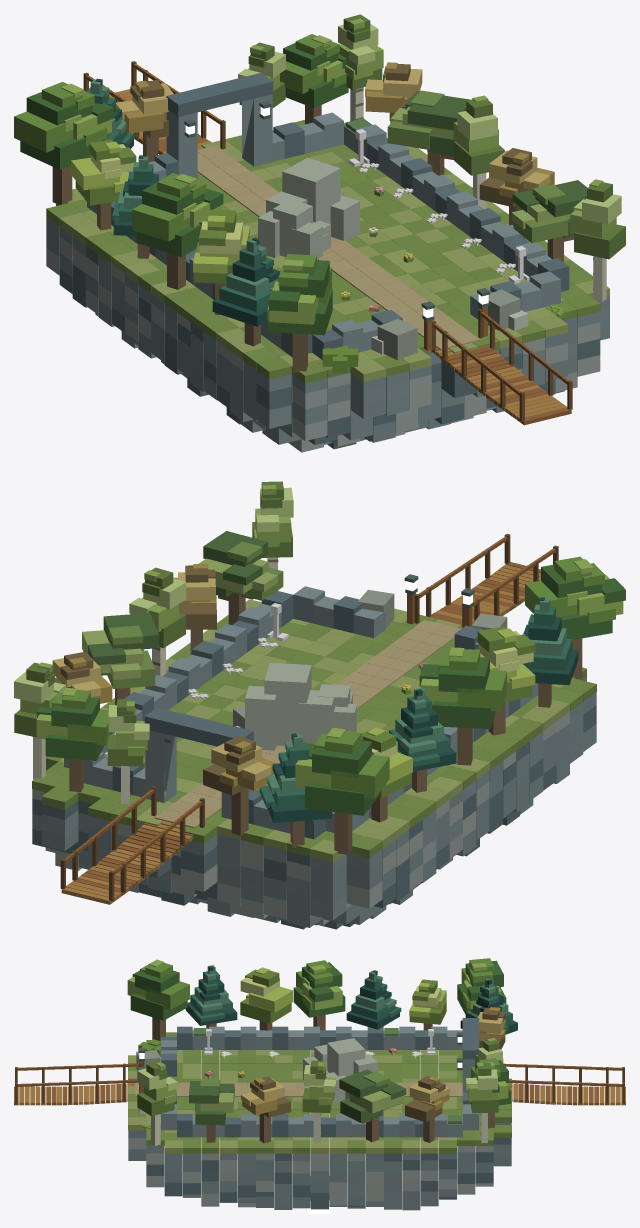
Rendered from room_rock_purified.glb.
3 views of the same model, one above another, from view 1: azimuth 30°, elevation 25°; view 2: azimuth 150°, elevation 25°; view 3: azimuth 270°, elevation 25° (orthographic). The views are drawn at different scales.
Visible parts, largest first — view 1: room_rock_blocks, tree0_(0, 0).003, tree0_(0, 0).002, tree0_(0, 0).001, rock_outcrop_(0, 0).001, tree0_(0, 0).004, tree3_(0, 0).002, tree2_(0, 0).001, tree1_(0, 0).001, tree3_(0, 0).001, tree4_(0, 0).002, tree1_(0, 0).002 (+12 smaller); view 2: room_rock_blocks, tree0_(0, 0).003, tree0_(0, 0).002, tree0_(0, 0).001, rock_outcrop_(0, 0).001, tree0_(0, 0).004, tree3_(0, 0).002, tree3_(0, 0).001, tree5_(0, 0).003, tree2_(0, 0).002, tree2_(0, 0).001, tree2_(0, 0).003 (+10 smaller); view 3: room_rock_blocks, tree0_(0, 0).001, tree3_(0, 0).002, tree0_(0, 0).002, tree4_(0, 0).001, tree1_(0, 0).001, tree3_(0, 0).001, tree2_(0, 0).001, tree2_(0, 0).002, tree5_(0, 0).001, tree5_(0, 0).002, rock_outcrop_(0, 0).001 (+8 smaller).
Boxes of the visible parts, box(x1,y1,x2,y2) form: room_rock_blocks: box(46, 61, 609, 452); tree0_(0, 0).003: box(14, 82, 114, 205); tree0_(0, 0).002: box(132, 173, 223, 289); tree0_(0, 0).001: box(267, 254, 332, 373); rock_outcrop_(0, 0).001: box(266, 157, 359, 247); tree0_(0, 0).004: box(280, 34, 348, 124); tree3_(0, 0).002: box(387, 90, 471, 175); tree2_(0, 0).001: box(212, 237, 280, 346); tree1_(0, 0).001: box(570, 179, 625, 302); tree3_(0, 0).001: box(511, 180, 587, 262); tree4_(0, 0).002: box(71, 139, 136, 230); tree1_(0, 0).002: box(453, 95, 504, 208); room_rock_blocks: box(32, 534, 596, 929); tree0_(0, 0).003: box(295, 727, 389, 854); tree0_(0, 0).002: box(419, 647, 506, 765); tree0_(0, 0).001: box(525, 556, 625, 678); rock_outcrop_(0, 0).001: box(245, 663, 333, 750); tree0_(0, 0).004: box(36, 687, 112, 791); tree3_(0, 0).002: box(82, 613, 159, 705); tree3_(0, 0).001: box(198, 531, 283, 624); tree5_(0, 0).003: box(203, 735, 277, 835); tree2_(0, 0).002: box(389, 687, 456, 792); tree2_(0, 0).001: box(522, 597, 578, 707); tree2_(0, 0).003: box(259, 733, 332, 847); room_rock_blocks: box(14, 1018, 625, 1213); tree0_(0, 0).001: box(127, 959, 189, 1040); tree3_(0, 0).002: box(339, 1069, 406, 1142); tree0_(0, 0).002: box(293, 960, 345, 1030); tree4_(0, 0).001: box(240, 967, 292, 1030); tree1_(0, 0).001: box(137, 1061, 177, 1145); tree3_(0, 0).001: box(189, 1079, 234, 1142); tree2_(0, 0).001: box(185, 965, 237, 1028); tree2_(0, 0).002: box(346, 970, 401, 1029); tree5_(0, 0).001: box(241, 1076, 291, 1143); tree5_(0, 0).002: box(405, 1076, 450, 1142); rock_outcrop_(0, 0).001: box(325, 1038, 377, 1103).
Bounding box in the file's own units: 19.12 × 13.63 × 38.5.
